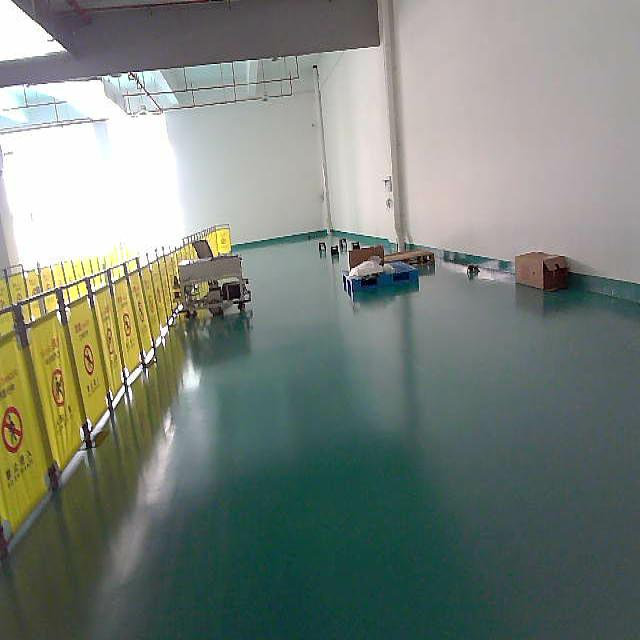euro: (385, 249, 434, 267)
